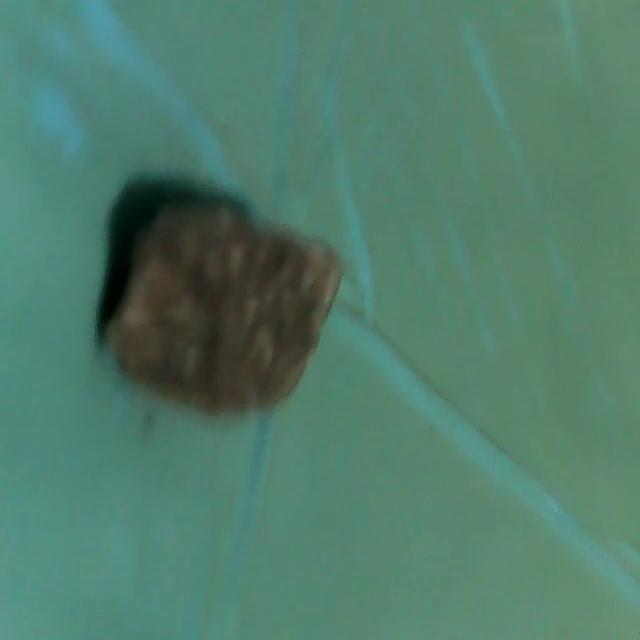rock: (103, 193, 356, 432)
